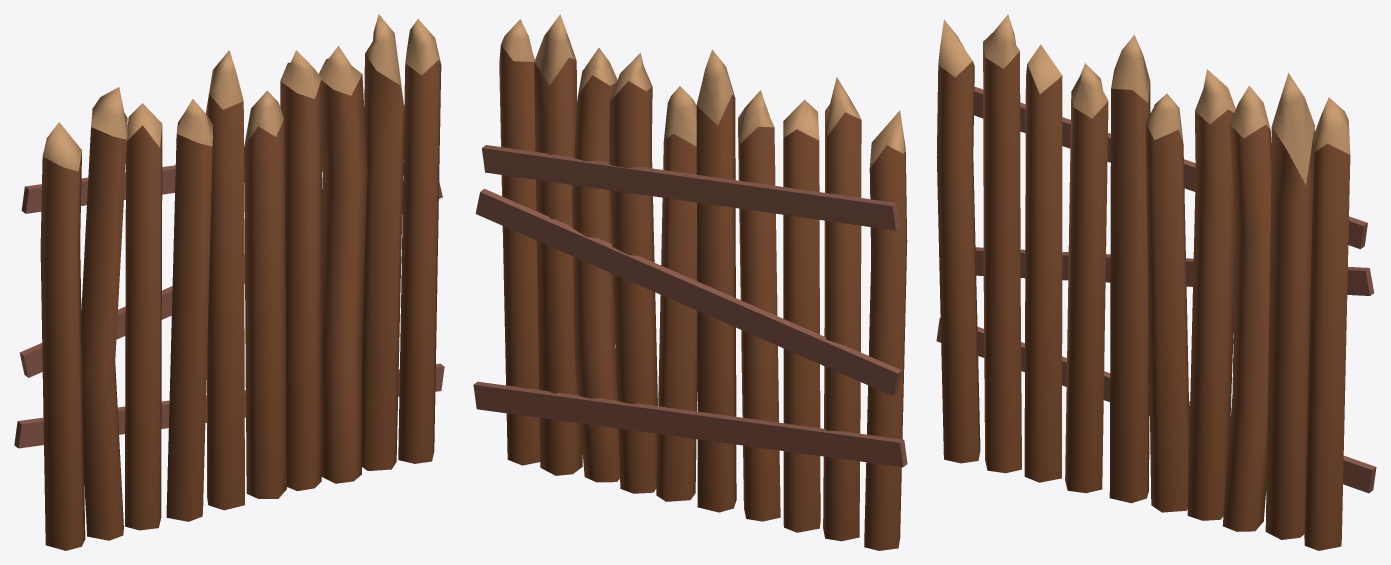
File: Fence_WoodC_A.fbx
3 views of the same model, side by side, from view 1: azimuth 30°, elevation 25°; view 2: azimuth 150°, elevation 25°; view 3: azimuth 330°, elevation 25° (orthographic). The views are drawn at different scales.
Visible parts, largest first — view 1: Fence_WoodC_A; view 2: Fence_WoodC_A; view 3: Fence_WoodC_A.
Part boxes in pixels (x1,y1,x2,y2): Fence_WoodC_A: (14,14,444,550); Fence_WoodC_A: (473,14,907,550); Fence_WoodC_A: (936,14,1376,550).
Bounding box in the file's own units: 560 × 565 × 63.02.
